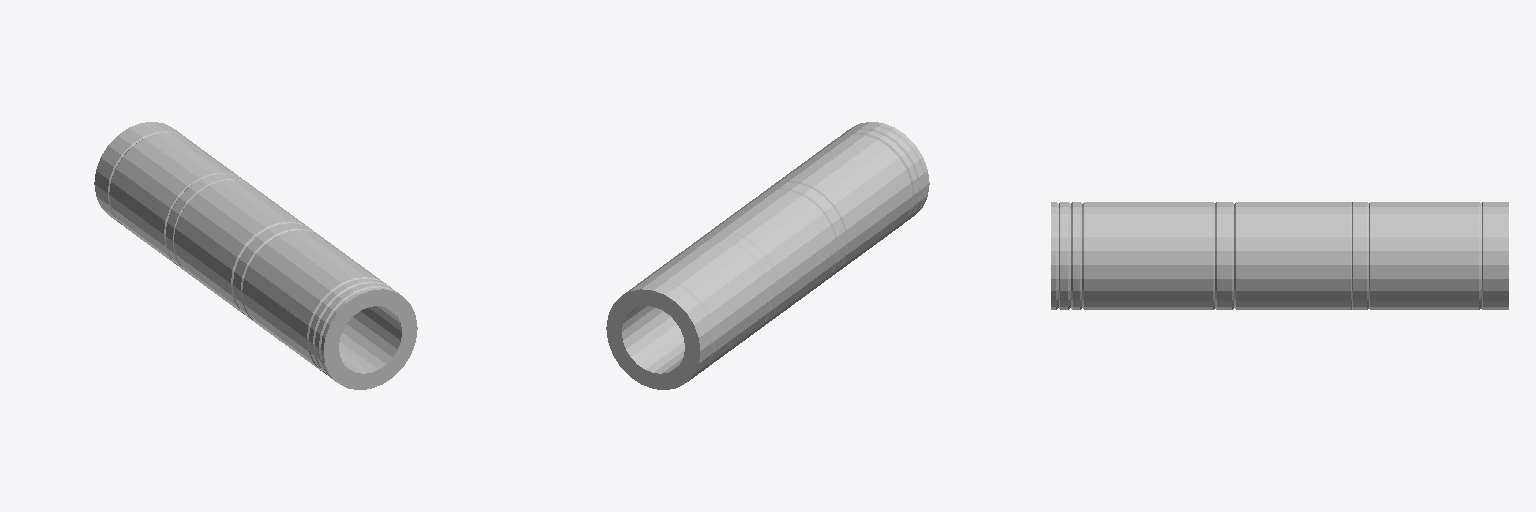
The model's file is prednja_cev_centered.obj.
3 renders of one model, left to right at view 1: azimuth 30°, elevation 25°; view 2: azimuth 150°, elevation 25°; view 3: azimuth 270°, elevation 25°, orthographic.
Visible parts, largest first — view 1: animacija-SKP-Default_Material; view 2: animacija-SKP-Default_Material; view 3: animacija-SKP-Default_Material.
Part boxes in pixels (bbox=[...]): animacija-SKP-Default_Material: bbox=[94, 122, 417, 389]; animacija-SKP-Default_Material: bbox=[606, 122, 929, 389]; animacija-SKP-Default_Material: bbox=[1051, 202, 1508, 309].
Bounding box in the file's own units: 0.2135 × 0.2135 × 0.9004.